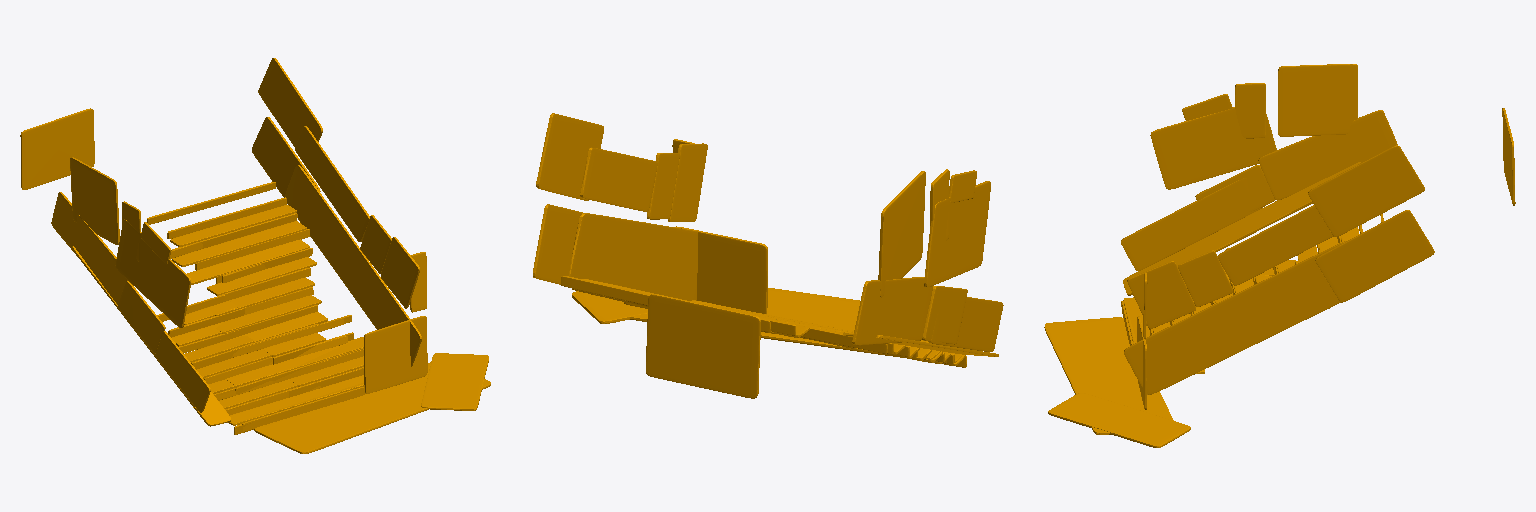
robot.urdf — scene:
<?xml version='1.0' encoding='utf-8'?>
<robot name="scene"><link name="scene_link"><visual><origin xyz="0.000000 0.000000 0.000000" rpy="0.000000 -0.000000 0.000000" /><geometry><mesh filename="part_000.obj" /></geometry></visual><collision><origin xyz="0.000000 0.000000 0.000000" rpy="0.000000 -0.000000 0.000000" /><geometry><mesh filename="part_000.obj" /></geometry></collision><visual><origin xyz="0.000000 0.000000 0.000000" rpy="0.000000 -0.000000 0.000000" /><geometry><mesh filename="part_001.obj" /></geometry></visual><collision><origin xyz="0.000000 0.000000 0.000000" rpy="0.000000 -0.000000 0.000000" /><geometry><mesh filename="part_001.obj" /></geometry></collision><visual><origin xyz="0.000000 0.000000 0.000000" rpy="0.000000 -0.000000 0.000000" /><geometry><mesh filename="part_002.obj" /></geometry></visual><collision><origin xyz="0.000000 0.000000 0.000000" rpy="0.000000 -0.000000 0.000000" /><geometry><mesh filename="part_002.obj" /></geometry></collision><visual><origin xyz="0.000000 0.000000 0.000000" rpy="0.000000 -0.000000 0.000000" /><geometry><mesh filename="part_003.obj" /></geometry></visual><collision><origin xyz="0.000000 0.000000 0.000000" rpy="0.000000 -0.000000 0.000000" /><geometry><mesh filename="part_003.obj" /></geometry></collision><visual><origin xyz="0.000000 0.000000 0.000000" rpy="0.000000 -0.000000 0.000000" /><geometry><mesh filename="part_004.obj" /></geometry></visual><collision><origin xyz="0.000000 0.000000 0.000000" rpy="0.000000 -0.000000 0.000000" /><geometry><mesh filename="part_004.obj" /></geometry></collision><visual><origin xyz="0.000000 0.000000 0.000000" rpy="0.000000 -0.000000 0.000000" /><geometry><mesh filename="part_005.obj" /></geometry></visual><collision><origin xyz="0.000000 0.000000 0.000000" rpy="0.000000 -0.000000 0.000000" /><geometry><mesh filename="part_005.obj" /></geometry></collision><visual><origin xyz="0.000000 0.000000 0.000000" rpy="0.000000 -0.000000 0.000000" /><geometry><mesh filename="part_006.obj" /></geometry></visual><collision><origin xyz="0.000000 0.000000 0.000000" rpy="0.000000 -0.000000 0.000000" /><geometry><mesh filename="part_006.obj" /></geometry></collision><visual><origin xyz="0.000000 0.000000 0.000000" rpy="0.000000 -0.000000 0.000000" /><geometry><mesh filename="part_007.obj" /></geometry></visual><collision><origin xyz="0.000000 0.000000 0.000000" rpy="0.000000 -0.000000 0.000000" /><geometry><mesh filename="part_007.obj" /></geometry></collision><visual><origin xyz="0.000000 0.000000 0.000000" rpy="0.000000 -0.000000 0.000000" /><geometry><mesh filename="part_008.obj" /></geometry></visual><collision><origin xyz="0.000000 0.000000 0.000000" rpy="0.000000 -0.000000 0.000000" /><geometry><mesh filename="part_008.obj" /></geometry></collision><visual><origin xyz="0.000000 0.000000 0.000000" rpy="0.000000 -0.000000 0.000000" /><geometry><mesh filename="part_009.obj" /></geometry></visual><collision><origin xyz="0.000000 0.000000 0.000000" rpy="0.000000 -0.000000 0.000000" /><geometry><mesh filename="part_009.obj" /></geometry></collision><visual><origin xyz="0.000000 0.000000 0.000000" rpy="0.000000 -0.000000 0.000000" /><geometry><mesh filename="part_010.obj" /></geometry></visual><collision><origin xyz="0.000000 0.000000 0.000000" rpy="0.000000 -0.000000 0.000000" /><geometry><mesh filename="part_010.obj" /></geometry></collision><visual><origin xyz="0.000000 0.000000 0.000000" rpy="0.000000 -0.000000 0.000000" /><geometry><mesh filename="part_011.obj" /></geometry></visual><collision><origin xyz="0.000000 0.000000 0.000000" rpy="0.000000 -0.000000 0.000000" /><geometry><mesh filename="part_011.obj" /></geometry></collision><visual><origin xyz="0.000000 0.000000 0.000000" rpy="0.000000 -0.000000 0.000000" /><geometry><mesh filename="part_012.obj" /></geometry></visual><collision><origin xyz="0.000000 0.000000 0.000000" rpy="0.000000 -0.000000 0.000000" /><geometry><mesh filename="part_012.obj" /></geometry></collision><visual><origin xyz="0.000000 0.000000 0.000000" rpy="0.000000 -0.000000 0.000000" /><geometry><mesh filename="part_013.obj" /></geometry></visual><collision><origin xyz="0.000000 0.000000 0.000000" rpy="0.000000 -0.000000 0.000000" /><geometry><mesh filename="part_013.obj" /></geometry></collision><visual><origin xyz="0.000000 0.000000 0.000000" rpy="0.000000 -0.000000 0.000000" /><geometry><mesh filename="part_014.obj" /></geometry></visual><collision><origin xyz="0.000000 0.000000 0.000000" rpy="0.000000 -0.000000 0.000000" /><geometry><mesh filename="part_014.obj" /></geometry></collision><visual><origin xyz="0.000000 0.000000 0.000000" rpy="0.000000 -0.000000 0.000000" /><geometry><mesh filename="part_015.obj" /></geometry></visual><collision><origin xyz="0.000000 0.000000 0.000000" rpy="0.000000 -0.000000 0.000000" /><geometry><mesh filename="part_015.obj" /></geometry></collision><visual><origin xyz="0.000000 0.000000 0.000000" rpy="0.000000 -0.000000 0.000000" /><geometry><mesh filename="part_016.obj" /></geometry></visual><collision><origin xyz="0.000000 0.000000 0.000000" rpy="0.000000 -0.000000 0.000000" /><geometry><mesh filename="part_016.obj" /></geometry></collision><visual><origin xyz="0.000000 0.000000 0.000000" rpy="0.000000 -0.000000 0.000000" /><geometry><mesh filename="part_017.obj" /></geometry></visual><collision><origin xyz="0.000000 0.000000 0.000000" rpy="0.000000 -0.000000 0.000000" /><geometry><mesh filename="part_017.obj" /></geometry></collision><visual><origin xyz="0.000000 0.000000 0.000000" rpy="0.000000 -0.000000 0.000000" /><geometry><mesh filename="part_018.obj" /></geometry></visual><collision><origin xyz="0.000000 0.000000 0.000000" rpy="0.000000 -0.000000 0.000000" /><geometry><mesh filename="part_018.obj" /></geometry></collision><visual><origin xyz="0.000000 0.000000 0.000000" rpy="0.000000 -0.000000 0.000000" /><geometry><mesh filename="part_019.obj" /></geometry></visual><collision><origin xyz="0.000000 0.000000 0.000000" rpy="0.000000 -0.000000 0.000000" /><geometry><mesh filename="part_019.obj" /></geometry></collision><visual><origin xyz="0.000000 0.000000 0.000000" rpy="0.000000 -0.000000 0.000000" /><geometry><mesh filename="part_020.obj" /></geometry></visual><collision><origin xyz="0.000000 0.000000 0.000000" rpy="0.000000 -0.000000 0.000000" /><geometry><mesh filename="part_020.obj" /></geometry></collision><visual><origin xyz="0.000000 0.000000 0.000000" rpy="0.000000 -0.000000 0.000000" /><geometry><mesh filename="part_021.obj" /></geometry></visual><collision><origin xyz="0.000000 0.000000 0.000000" rpy="0.000000 -0.000000 0.000000" /><geometry><mesh filename="part_021.obj" /></geometry></collision><visual><origin xyz="0.000000 0.000000 0.000000" rpy="0.000000 -0.000000 0.000000" /><geometry><mesh filename="part_022.obj" /></geometry></visual><collision><origin xyz="0.000000 0.000000 0.000000" rpy="0.000000 -0.000000 0.000000" /><geometry><mesh filename="part_022.obj" /></geometry></collision><visual><origin xyz="0.000000 0.000000 0.000000" rpy="0.000000 -0.000000 0.000000" /><geometry><mesh filename="part_023.obj" /></geometry></visual><collision><origin xyz="0.000000 0.000000 0.000000" rpy="0.000000 -0.000000 0.000000" /><geometry><mesh filename="part_023.obj" /></geometry></collision><visual><origin xyz="0.000000 0.000000 0.000000" rpy="0.000000 -0.000000 0.000000" /><geometry><mesh filename="part_024.obj" /></geometry></visual><collision><origin xyz="0.000000 0.000000 0.000000" rpy="0.000000 -0.000000 0.000000" /><geometry><mesh filename="part_024.obj" /></geometry></collision><visual><origin xyz="0.000000 0.000000 0.000000" rpy="0.000000 -0.000000 0.000000" /><geometry><mesh filename="part_025.obj" /></geometry></visual><collision><origin xyz="0.000000 0.000000 0.000000" rpy="0.000000 -0.000000 0.000000" /><geometry><mesh filename="part_025.obj" /></geometry></collision><visual><origin xyz="0.000000 0.000000 0.000000" rpy="0.000000 -0.000000 0.000000" /><geometry><mesh filename="part_026.obj" /></geometry></visual><collision><origin xyz="0.000000 0.000000 0.000000" rpy="0.000000 -0.000000 0.000000" /><geometry><mesh filename="part_026.obj" /></geometry></collision><visual><origin xyz="0.000000 0.000000 0.000000" rpy="0.000000 -0.000000 0.000000" /><geometry><mesh filename="part_027.obj" /></geometry></visual><collision><origin xyz="0.000000 0.000000 0.000000" rpy="0.000000 -0.000000 0.000000" /><geometry><mesh filename="part_027.obj" /></geometry></collision><visual><origin xyz="0.000000 0.000000 0.000000" rpy="0.000000 -0.000000 0.000000" /><geometry><mesh filename="part_028.obj" /></geometry></visual><collision><origin xyz="0.000000 0.000000 0.000000" rpy="0.000000 -0.000000 0.000000" /><geometry><mesh filename="part_028.obj" /></geometry></collision><visual><origin xyz="0.000000 0.000000 0.000000" rpy="0.000000 -0.000000 0.000000" /><geometry><mesh filename="part_029.obj" /></geometry></visual><collision><origin xyz="0.000000 0.000000 0.000000" rpy="0.000000 -0.000000 0.000000" /><geometry><mesh filename="part_029.obj" /></geometry></collision><visual><origin xyz="0.000000 0.000000 0.000000" rpy="0.000000 -0.000000 0.000000" /><geometry><mesh filename="part_030.obj" /></geometry></visual><collision><origin xyz="0.000000 0.000000 0.000000" rpy="0.000000 -0.000000 0.000000" /><geometry><mesh filename="part_030.obj" /></geometry></collision><visual><origin xyz="0.000000 0.000000 0.000000" rpy="0.000000 -0.000000 0.000000" /><geometry><mesh filename="part_031.obj" /></geometry></visual><collision><origin xyz="0.000000 0.000000 0.000000" rpy="0.000000 -0.000000 0.000000" /><geometry><mesh filename="part_031.obj" /></geometry></collision><visual><origin xyz="0.000000 0.000000 0.000000" rpy="0.000000 -0.000000 0.000000" /><geometry><mesh filename="part_032.obj" /></geometry></visual><collision><origin xyz="0.000000 0.000000 0.000000" rpy="0.000000 -0.000000 0.000000" /><geometry><mesh filename="part_032.obj" /></geometry></collision><visual><origin xyz="0.000000 0.000000 0.000000" rpy="0.000000 -0.000000 0.000000" /><geometry><mesh filename="part_033.obj" /></geometry></visual><collision><origin xyz="0.000000 0.000000 0.000000" rpy="0.000000 -0.000000 0.000000" /><geometry><mesh filename="part_033.obj" /></geometry></collision><visual><origin xyz="0.000000 0.000000 0.000000" rpy="0.000000 -0.000000 0.000000" /><geometry><mesh filename="part_034.obj" /></geometry></visual><collision><origin xyz="0.000000 0.000000 0.000000" rpy="0.000000 -0.000000 0.000000" /><geometry><mesh filename="part_034.obj" /></geometry></collision><visual><origin xyz="0.000000 0.000000 0.000000" rpy="0.000000 -0.000000 0.000000" /><geometry><mesh filename="part_035.obj" /></geometry></visual><collision><origin xyz="0.000000 0.000000 0.000000" rpy="0.000000 -0.000000 0.000000" /><geometry><mesh filename="part_035.obj" /></geometry></collision><visual><origin xyz="0.000000 0.000000 0.000000" rpy="0.000000 -0.000000 0.000000" /><geometry><mesh filename="part_036.obj" /></geometry></visual><collision><origin xyz="0.000000 0.000000 0.000000" rpy="0.000000 -0.000000 0.000000" /><geometry><mesh filename="part_036.obj" /></geometry></collision><visual><origin xyz="0.000000 0.000000 0.000000" rpy="0.000000 -0.000000 0.000000" /><geometry><mesh filename="part_037.obj" /></geometry></visual><collision><origin xyz="0.000000 0.000000 0.000000" rpy="0.000000 -0.000000 0.000000" /><geometry><mesh filename="part_037.obj" /></geometry></collision><visual><origin xyz="0.000000 0.000000 0.000000" rpy="0.000000 -0.000000 0.000000" /><geometry><mesh filename="part_038.obj" /></geometry></visual><collision><origin xyz="0.000000 0.000000 0.000000" rpy="0.000000 -0.000000 0.000000" /><geometry><mesh filename="part_038.obj" /></geometry></collision><visual><origin xyz="0.000000 0.000000 0.000000" rpy="0.000000 -0.000000 0.000000" /><geometry><mesh filename="part_039.obj" /></geometry></visual><collision><origin xyz="0.000000 0.000000 0.000000" rpy="0.000000 -0.000000 0.000000" /><geometry><mesh filename="part_039.obj" /></geometry></collision><visual><origin xyz="0.000000 0.000000 0.000000" rpy="0.000000 -0.000000 0.000000" /><geometry><mesh filename="part_040.obj" /></geometry></visual><collision><origin xyz="0.000000 0.000000 0.000000" rpy="0.000000 -0.000000 0.000000" /><geometry><mesh filename="part_040.obj" /></geometry></collision><visual><origin xyz="0.000000 0.000000 0.000000" rpy="0.000000 -0.000000 0.000000" /><geometry><mesh filename="part_041.obj" /></geometry></visual><collision><origin xyz="0.000000 0.000000 0.000000" rpy="0.000000 -0.000000 0.000000" /><geometry><mesh filename="part_041.obj" /></geometry></collision><visual><origin xyz="0.000000 0.000000 0.000000" rpy="0.000000 -0.000000 0.000000" /><geometry><mesh filename="part_042.obj" /></geometry></visual><collision><origin xyz="0.000000 0.000000 0.000000" rpy="0.000000 -0.000000 0.000000" /><geometry><mesh filename="part_042.obj" /></geometry></collision><visual><origin xyz="0.000000 0.000000 0.000000" rpy="0.000000 -0.000000 0.000000" /><geometry><mesh filename="part_043.obj" /></geometry></visual><collision><origin xyz="0.000000 0.000000 0.000000" rpy="0.000000 -0.000000 0.000000" /><geometry><mesh filename="part_043.obj" /></geometry></collision><visual><origin xyz="0.000000 0.000000 0.000000" rpy="0.000000 -0.000000 0.000000" /><geometry><mesh filename="part_044.obj" /></geometry></visual><collision><origin xyz="0.000000 0.000000 0.000000" rpy="0.000000 -0.000000 0.000000" /><geometry><mesh filename="part_044.obj" /></geometry></collision><visual><origin xyz="0.000000 0.000000 0.000000" rpy="0.000000 -0.000000 0.000000" /><geometry><mesh filename="part_045.obj" /></geometry></visual><collision><origin xyz="0.000000 0.000000 0.000000" rpy="0.000000 -0.000000 0.000000" /><geometry><mesh filename="part_045.obj" /></geometry></collision><visual><origin xyz="0.000000 0.000000 0.000000" rpy="0.000000 -0.000000 0.000000" /><geometry><mesh filename="part_046.obj" /></geometry></visual><collision><origin xyz="0.000000 0.000000 0.000000" rpy="0.000000 -0.000000 0.000000" /><geometry><mesh filename="part_046.obj" /></geometry></collision><visual><origin xyz="0.000000 0.000000 0.000000" rpy="0.000000 -0.000000 0.000000" /><geometry><mesh filename="part_047.obj" /></geometry></visual><collision><origin xyz="0.000000 0.000000 0.000000" rpy="0.000000 -0.000000 0.000000" /><geometry><mesh filename="part_047.obj" /></geometry></collision><visual><origin xyz="0.000000 0.000000 0.000000" rpy="0.000000 -0.000000 0.000000" /><geometry><mesh filename="part_048.obj" /></geometry></visual><collision><origin xyz="0.000000 0.000000 0.000000" rpy="0.000000 -0.000000 0.000000" /><geometry><mesh filename="part_048.obj" /></geometry></collision><visual><origin xyz="0.000000 0.000000 0.000000" rpy="0.000000 -0.000000 0.000000" /><geometry><mesh filename="part_049.obj" /></geometry></visual><collision><origin xyz="0.000000 0.000000 0.000000" rpy="0.000000 -0.000000 0.000000" /><geometry><mesh filename="part_049.obj" /></geometry></collision><visual><origin xyz="0.000000 0.000000 0.000000" rpy="0.000000 -0.000000 0.000000" /><geometry><mesh filename="part_050.obj" /></geometry></visual><collision><origin xyz="0.000000 0.000000 0.000000" rpy="0.000000 -0.000000 0.000000" /><geometry><mesh filename="part_050.obj" /></geometry></collision><visual><origin xyz="0.000000 0.000000 0.000000" rpy="0.000000 -0.000000 0.000000" /><geometry><mesh filename="part_051.obj" /></geometry></visual><collision><origin xyz="0.000000 0.000000 0.000000" rpy="0.000000 -0.000000 0.000000" /><geometry><mesh filename="part_051.obj" /></geometry></collision><visual><origin xyz="0.000000 0.000000 0.000000" rpy="0.000000 -0.000000 0.000000" /><geometry><mesh filename="part_052.obj" /></geometry></visual><collision><origin xyz="0.000000 0.000000 0.000000" rpy="0.000000 -0.000000 0.000000" /><geometry><mesh filename="part_052.obj" /></geometry></collision><visual><origin xyz="0.000000 0.000000 0.000000" rpy="0.000000 -0.000000 0.000000" /><geometry><mesh filename="part_053.obj" /></geometry></visual><collision><origin xyz="0.000000 0.000000 0.000000" rpy="0.000000 -0.000000 0.000000" /><geometry><mesh filename="part_053.obj" /></geometry></collision><visual><origin xyz="0.000000 0.000000 0.000000" rpy="0.000000 -0.000000 0.000000" /><geometry><mesh filename="part_054.obj" /></geometry></visual><collision><origin xyz="0.000000 0.000000 0.000000" rpy="0.000000 -0.000000 0.000000" /><geometry><mesh filename="part_054.obj" /></geometry></collision><visual><origin xyz="0.000000 0.000000 0.000000" rpy="0.000000 -0.000000 0.000000" /><geometry><mesh filename="part_055.obj" /></geometry></visual><collision><origin xyz="0.000000 0.000000 0.000000" rpy="0.000000 -0.000000 0.000000" /><geometry><mesh filename="part_055.obj" /></geometry></collision><visual><origin xyz="0.000000 0.000000 0.000000" rpy="0.000000 -0.000000 0.000000" /><geometry><mesh filename="part_056.obj" /></geometry></visual><collision><origin xyz="0.000000 0.000000 0.000000" rpy="0.000000 -0.000000 0.000000" /><geometry><mesh filename="part_056.obj" /></geometry></collision><visual><origin xyz="0.000000 0.000000 0.000000" rpy="0.000000 -0.000000 0.000000" /><geometry><mesh filename="part_057.obj" /></geometry></visual><collision><origin xyz="0.000000 0.000000 0.000000" rpy="0.000000 -0.000000 0.000000" /><geometry><mesh filename="part_057.obj" /></geometry></collision><visual><origin xyz="0.000000 0.000000 0.000000" rpy="0.000000 -0.000000 0.000000" /><geometry><mesh filename="part_058.obj" /></geometry></visual><collision><origin xyz="0.000000 0.000000 0.000000" rpy="0.000000 -0.000000 0.000000" /><geometry><mesh filename="part_058.obj" /></geometry></collision><visual><origin xyz="0.000000 0.000000 0.000000" rpy="0.000000 -0.000000 0.000000" /><geometry><mesh filename="part_059.obj" /></geometry></visual><collision><origin xyz="0.000000 0.000000 0.000000" rpy="0.000000 -0.000000 0.000000" /><geometry><mesh filename="part_059.obj" /></geometry></collision><visual><origin xyz="0.000000 0.000000 0.000000" rpy="0.000000 -0.000000 0.000000" /><geometry><mesh filename="part_060.obj" /></geometry></visual><collision><origin xyz="0.000000 0.000000 0.000000" rpy="0.000000 -0.000000 0.000000" /><geometry><mesh filename="part_060.obj" /></geometry></collision><visual><origin xyz="0.000000 0.000000 0.000000" rpy="0.000000 -0.000000 0.000000" /><geometry><mesh filename="part_061.obj" /></geometry></visual><collision><origin xyz="0.000000 0.000000 0.000000" rpy="0.000000 -0.000000 0.000000" /><geometry><mesh filename="part_061.obj" /></geometry></collision><visual><origin xyz="0.000000 0.000000 0.000000" rpy="0.000000 -0.000000 0.000000" /><geometry><mesh filename="part_062.obj" /></geometry></visual><collision><origin xyz="0.000000 0.000000 0.000000" rpy="0.000000 -0.000000 0.000000" /><geometry><mesh filename="part_062.obj" /></geometry></collision><visual><origin xyz="0.000000 0.000000 0.000000" rpy="0.000000 -0.000000 0.000000" /><geometry><mesh filename="part_063.obj" /></geometry></visual><collision><origin xyz="0.000000 0.000000 0.000000" rpy="0.000000 -0.000000 0.000000" /><geometry><mesh filename="part_063.obj" /></geometry></collision><visual><origin xyz="0.000000 0.000000 0.000000" rpy="0.000000 -0.000000 0.000000" /><geometry><mesh filename="part_064.obj" /></geometry></visual><collision><origin xyz="0.000000 0.000000 0.000000" rpy="0.000000 -0.000000 0.000000" /><geometry><mesh filename="part_064.obj" /></geometry></collision><visual><origin xyz="0.000000 0.000000 0.000000" rpy="0.000000 -0.000000 0.000000" /><geometry><mesh filename="part_065.obj" /></geometry></visual><collision><origin xyz="0.000000 0.000000 0.000000" rpy="0.000000 -0.000000 0.000000" /><geometry><mesh filename="part_065.obj" /></geometry></collision></link></robot>

--- Facts derived from the render (not from the file) ---
The picture shows the robot from 3 angles, left to right: view 1: azimuth 30°, elevation 25°; view 2: azimuth 150°, elevation 25°; view 3: azimuth 270°, elevation 25°; orthographic projection.
Model scene with 1 links and 0 joints (none), rooted at scene_link, posed every joint at zero.
Links seen in each view (by area): view 1: scene_link; view 2: scene_link; view 3: scene_link.
Boxes of the visible links, bbox=[...] form: scene_link: bbox=[20, 58, 490, 453]; scene_link: bbox=[533, 113, 1003, 398]; scene_link: bbox=[1044, 64, 1515, 447].
Size in the robot's own frame: 6 by 7.24 by 4.27 metres.
66 mesh visuals loaded from 66 distinct referenced files (66 OBJ).